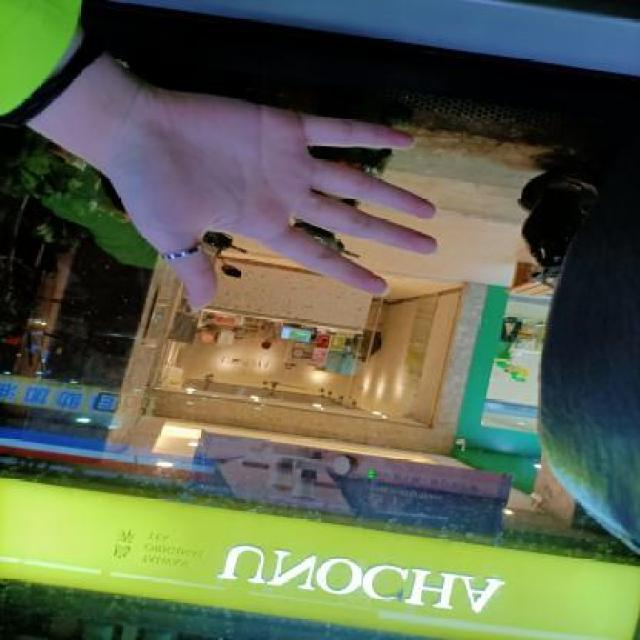bare_hand: (78, 86, 456, 328)
